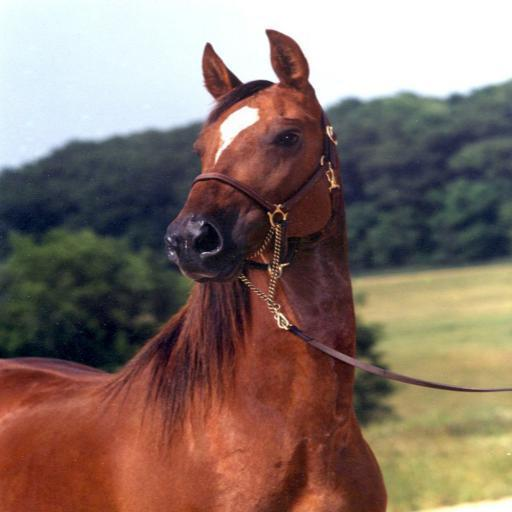horse: (2, 31, 388, 511)
